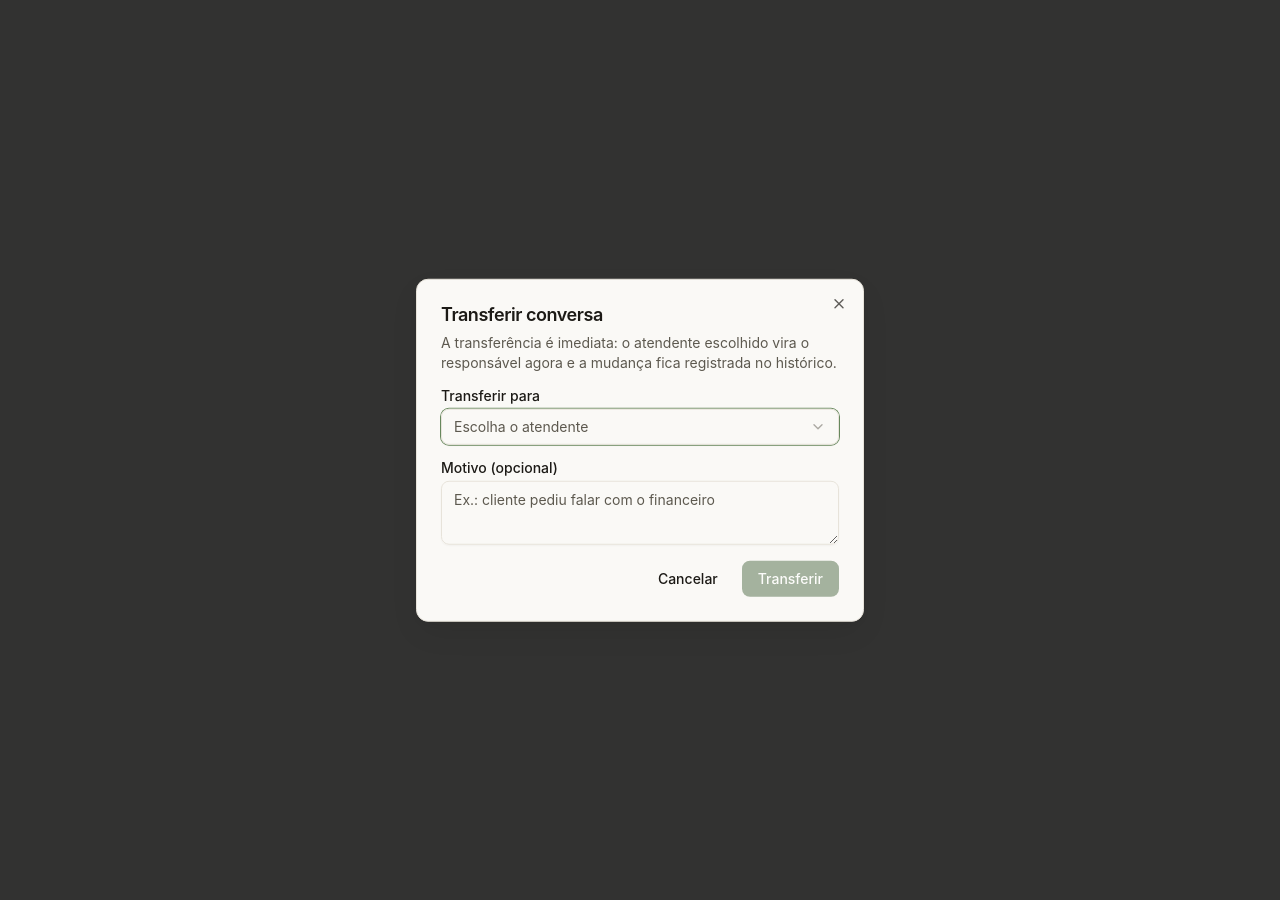
Test: #3732 — o aviso do número no diálogo de Transferir › CONTROLE: com número no destino, o aviso é o da troca (e o outro não aparece)
This screenshot has width=1280, height=900.
Click the dropdown with id "reassign-target".
click(521, 426)  # box [441, 408, 839, 444]
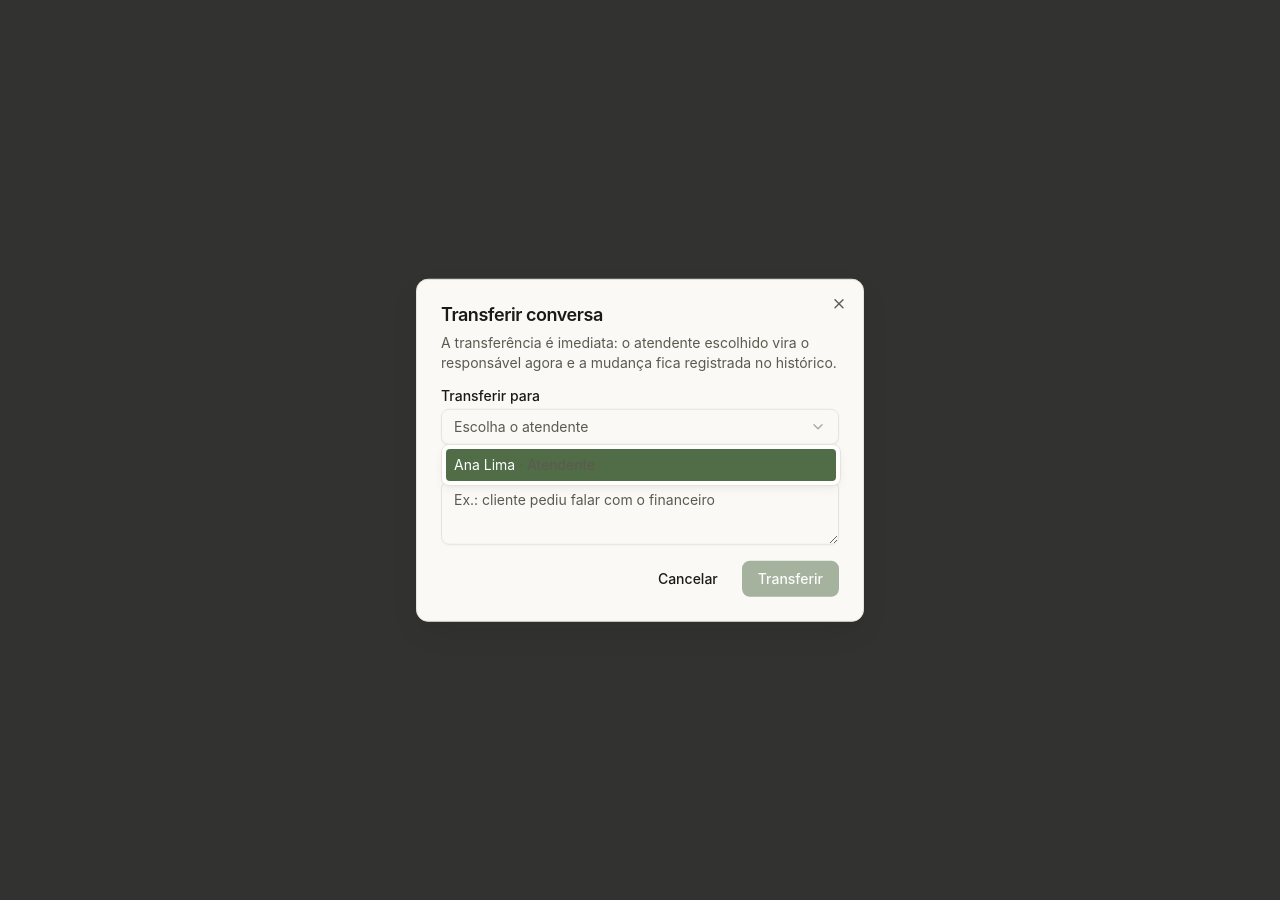
Expected: the option "Ana Lima· Atendente" is shown
Click the option "Ana Lima· Atendente".
click(485, 464)  # box [446, 449, 836, 481]
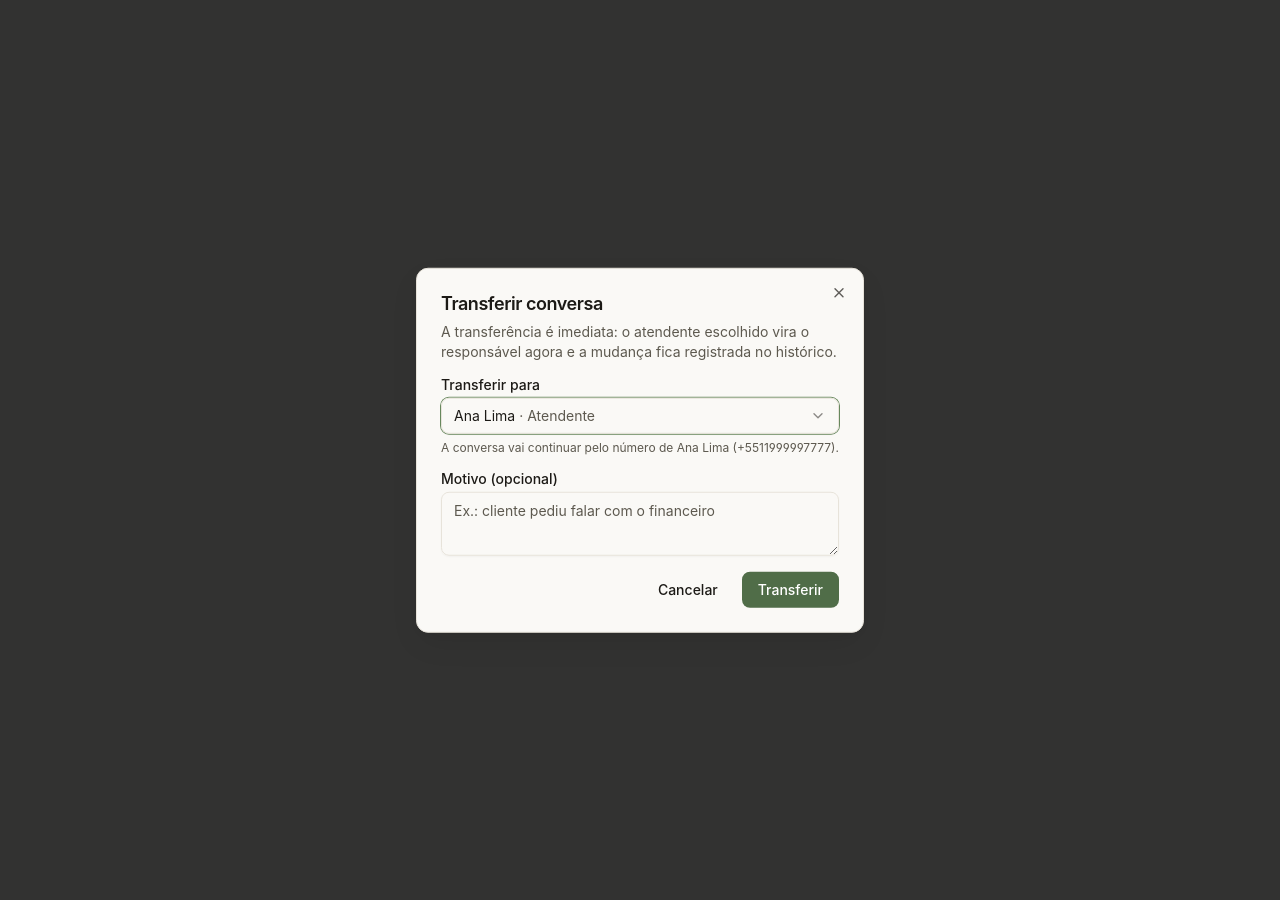
Expected: the message with test id "aviso-numero-da-transferencia" shows "Ana Lima", [441, 439, 839, 454]
